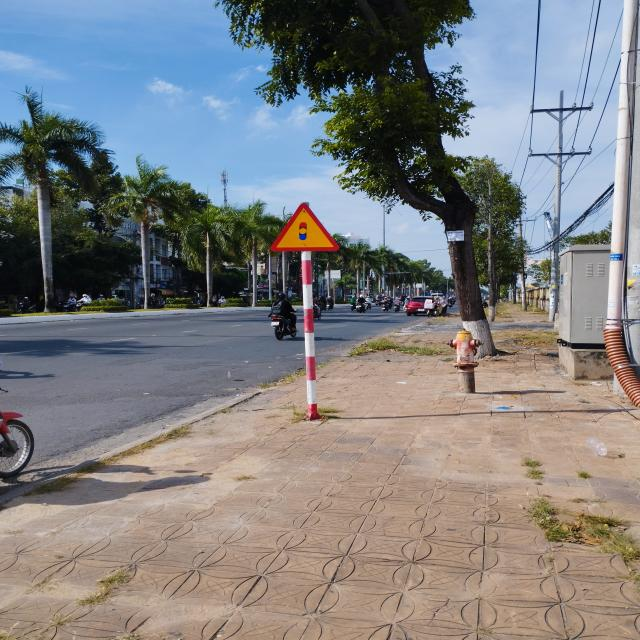Duong_Co_Go_Giam_Toc: (268, 204, 337, 251)
